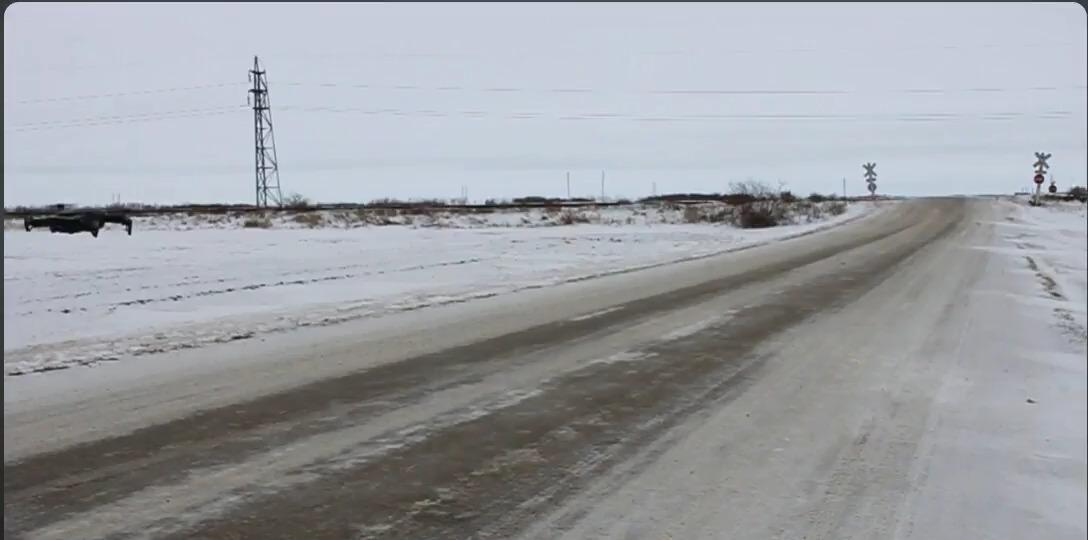dr: (21, 201, 136, 240)
